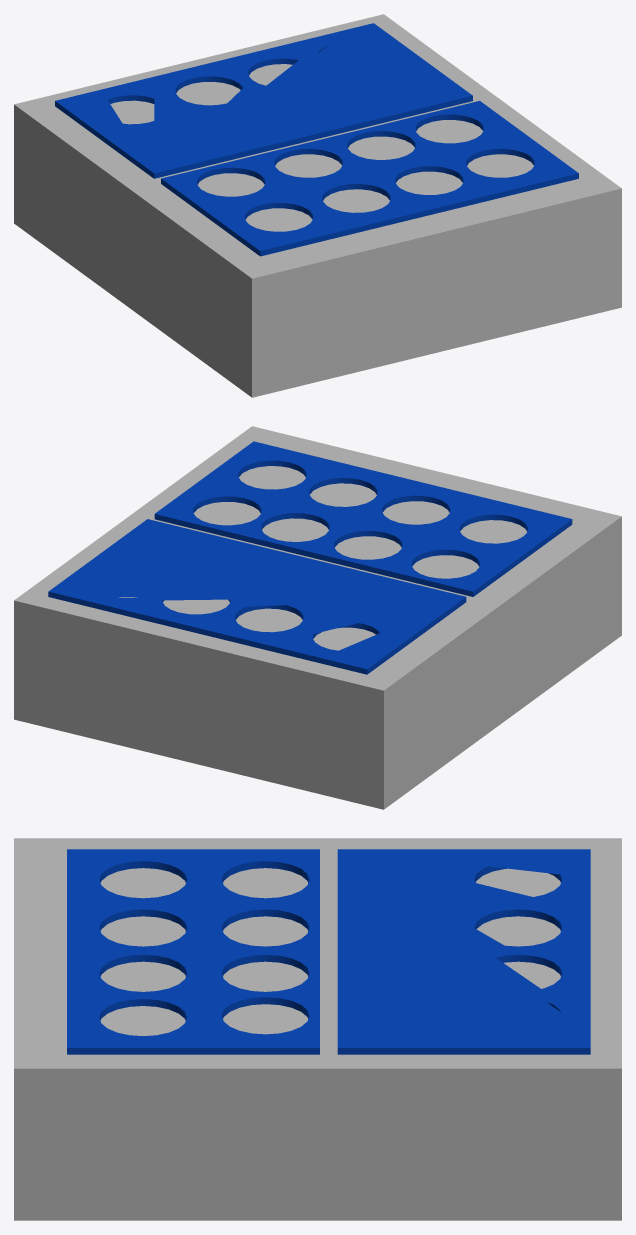
The model's file is MesaC UV.fbx.
The picture shows the model from 3 angles, top to bottom: view 1: azimuth 30°, elevation 25°; view 2: azimuth 150°, elevation 25°; view 3: azimuth 270°, elevation 25°; orthographic projection. The views are drawn at different scales.
Visible parts, largest first — view 1: pasted__mesa_C, polySurface2, polySurface1; view 2: pasted__mesa_C, polySurface2, polySurface1; view 3: pasted__mesa_C, polySurface2, polySurface1.
Boxes of the visible parts, <box> form: pasted__mesa_C: <box>14,14,621,397</box>; polySurface2: <box>55,23,472,178</box>; polySurface1: <box>161,101,578,256</box>; pasted__mesa_C: <box>14,426,621,809</box>; polySurface2: <box>48,519,466,674</box>; polySurface1: <box>154,441,572,596</box>; pasted__mesa_C: <box>14,838,621,1220</box>; polySurface2: <box>337,849,590,1054</box>; polySurface1: <box>67,849,319,1054</box>.
Bounding box in the file's own units: 13 × 4.18 × 14.5.
